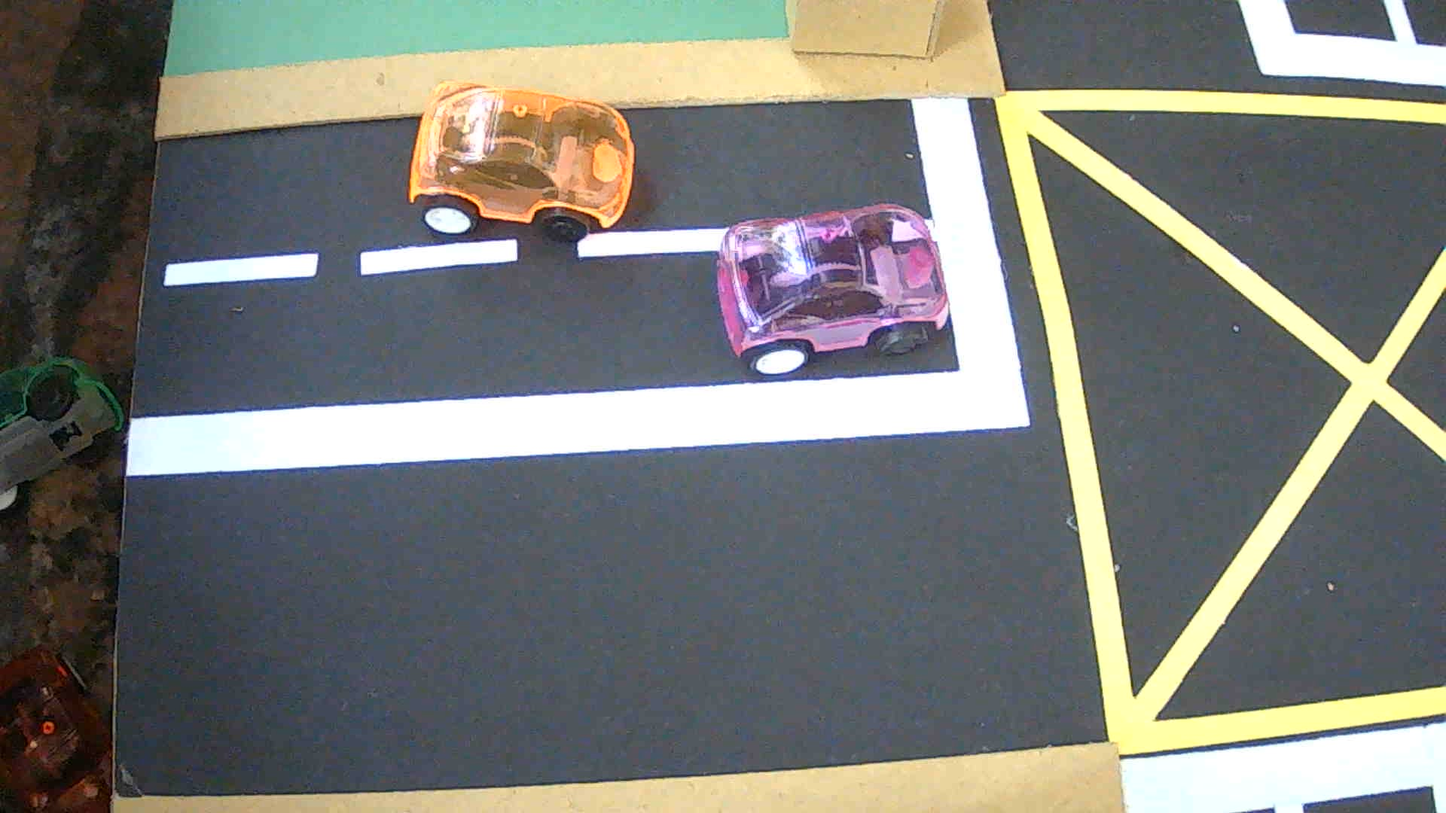Mobil orange: (408, 81, 635, 242)
Mobil ungu: (715, 204, 949, 376)
